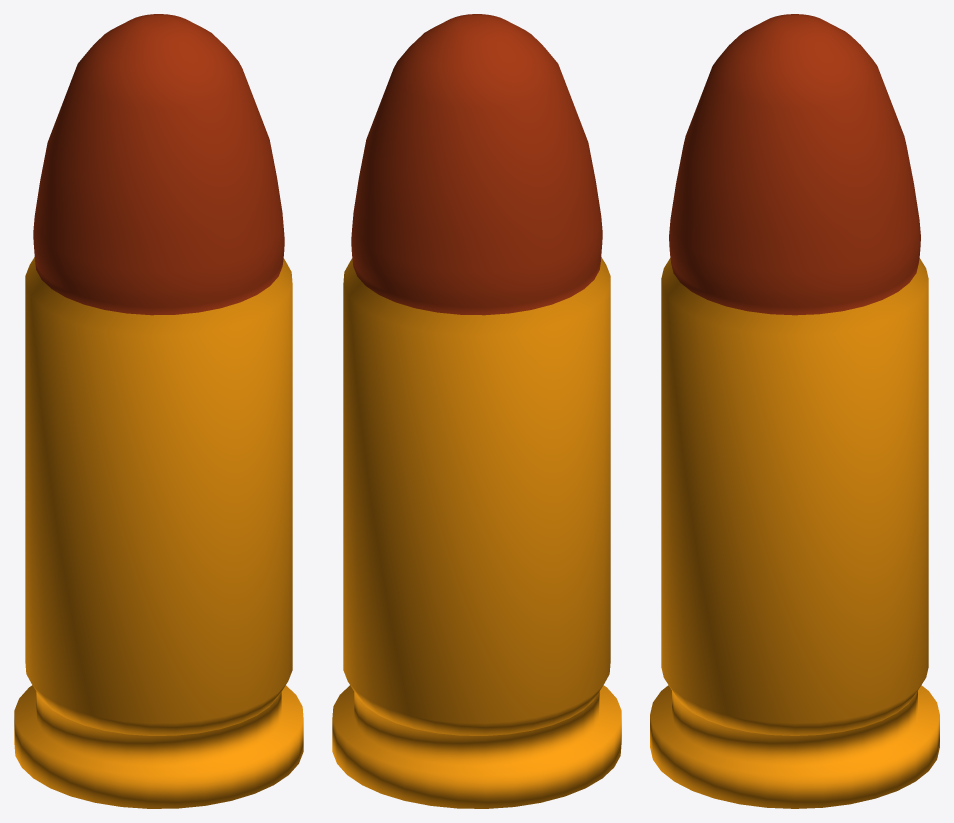
Rendered from Bullet.obj.
3 views of the same model, side by side, from view 1: azimuth 30°, elevation 25°; view 2: azimuth 150°, elevation 25°; view 3: azimuth 270°, elevation 25° (orthographic).
Visible parts, largest first — view 1: Circle; view 2: Circle; view 3: Circle.
Boxes of the visible parts, x1,y1,x2,y2 form: Circle: (14,14,303,808); Circle: (332,14,621,808); Circle: (650,14,939,808).
Bounding box in the file's own units: 1.56 × 4.3 × 1.56.
